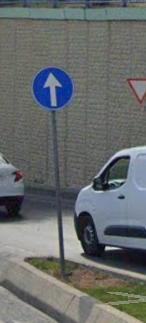forward: (33, 69, 73, 110)
